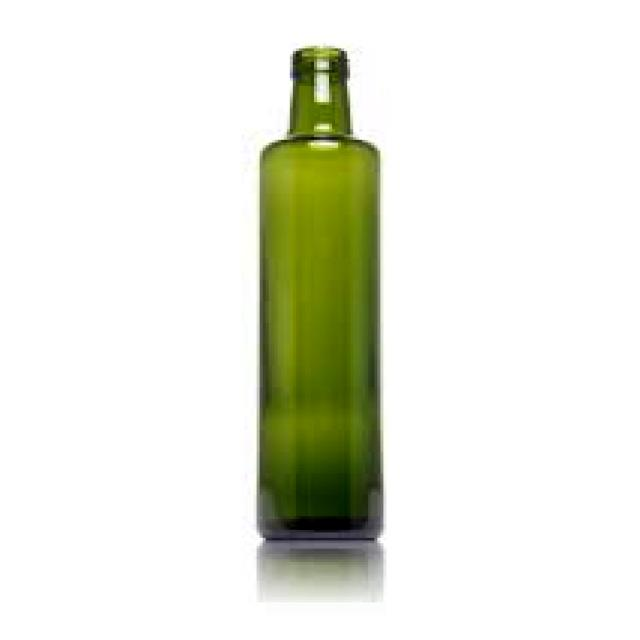Glass: (249, 44, 389, 548)
